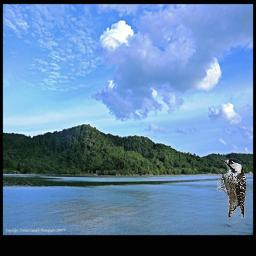Woodpecker: (216, 158, 246, 220)
